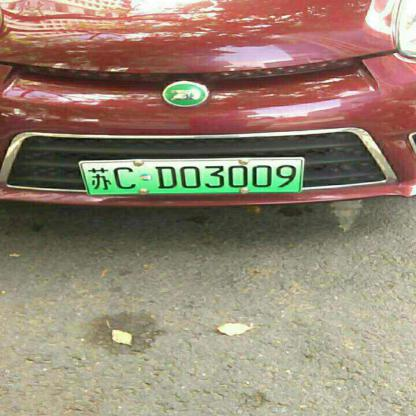lp: (78, 156, 304, 196)
